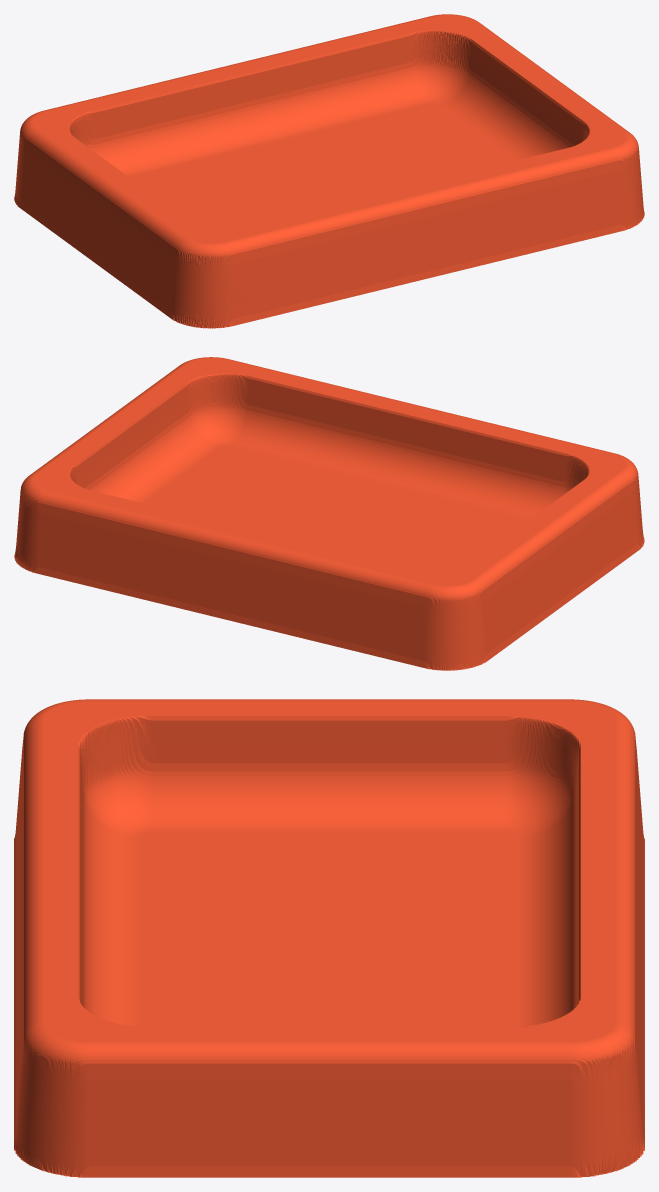
Rendered from mold.glb.
3 views of the same model, one above another, from view 1: azimuth 30°, elevation 25°; view 2: azimuth 150°, elevation 25°; view 3: azimuth 270°, elevation 25° (orthographic). The views are drawn at different scales.
Visible parts, largest first — view 1: geometry_0; view 2: geometry_0; view 3: geometry_0.
Boxes of the visible parts, <box> form: geometry_0: <box>14,14,644,328</box>; geometry_0: <box>14,357,644,670</box>; geometry_0: <box>14,699,644,1177</box>.
Size of the model in its own units: 0.105 by 0.0165 by 0.0766.
